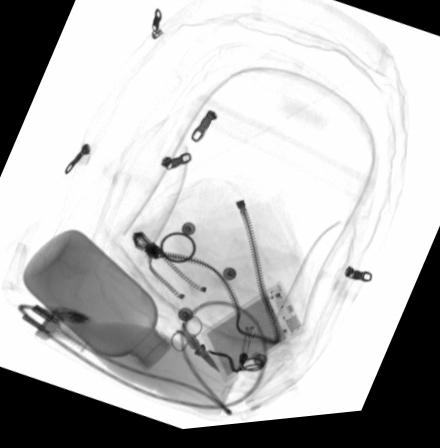Powerbank: (203, 290, 308, 388)
Scissors: (171, 317, 224, 377)
